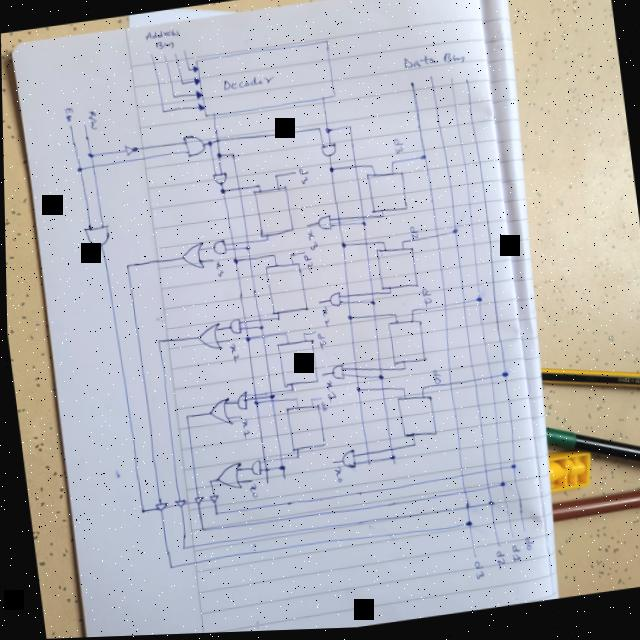crossover: (460, 503, 470, 513), (494, 467, 503, 475), (479, 470, 488, 477), (432, 233, 439, 242), (460, 489, 467, 497), (456, 474, 464, 481), (361, 241, 368, 249), (261, 466, 268, 474), (88, 163, 96, 170), (486, 376, 493, 383), (440, 305, 447, 312), (445, 383, 452, 389), (483, 486, 489, 492), (459, 301, 465, 307), (386, 448, 392, 454), (344, 300, 350, 306), (470, 379, 475, 386), (377, 388, 384, 393), (376, 368, 382, 373), (370, 314, 375, 319), (276, 457, 281, 462), (260, 459, 265, 464), (353, 165, 357, 169), (360, 216, 364, 220), (368, 292, 372, 296), (364, 453, 368, 457), (364, 461, 368, 465), (353, 375, 357, 379), (337, 224, 341, 228), (335, 217, 339, 221), (267, 390, 271, 394), (257, 318, 261, 322), (243, 326, 247, 330), (242, 320, 246, 324), (230, 241, 234, 245), (231, 247, 235, 251), (237, 186, 241, 190), (216, 138, 220, 142), (353, 368, 356, 372), (345, 294, 348, 298), (268, 400, 272, 403), (251, 392, 255, 395), (252, 397, 256, 400), (245, 240, 248, 243)
junction: (498, 371, 509, 381), (85, 148, 94, 160), (164, 561, 174, 571), (75, 163, 84, 173), (323, 126, 332, 136), (338, 242, 348, 251), (327, 166, 337, 175), (484, 501, 494, 510), (418, 153, 428, 162), (122, 261, 132, 270), (153, 336, 163, 345), (358, 219, 367, 229), (473, 297, 483, 306), (176, 542, 187, 550), (449, 228, 458, 237), (214, 151, 223, 160), (344, 314, 353, 323), (386, 455, 395, 464), (506, 464, 515, 473), (461, 521, 470, 530), (217, 187, 227, 195), (495, 483, 505, 491), (276, 464, 284, 473), (196, 525, 205, 533), (367, 299, 376, 307), (206, 139, 213, 149), (398, 386, 406, 394), (159, 107, 167, 115), (137, 507, 145, 514), (346, 124, 353, 132), (417, 386, 425, 393), (408, 442, 416, 449), (182, 413, 189, 420), (353, 387, 360, 394), (170, 92, 177, 99), (272, 173, 279, 180), (243, 336, 250, 343), (229, 151, 236, 158), (367, 163, 374, 170), (463, 79, 470, 86), (288, 252, 295, 259), (408, 309, 415, 316), (390, 161, 397, 168), (269, 252, 276, 259), (179, 80, 186, 87), (400, 368, 406, 375), (398, 241, 405, 247), (379, 241, 385, 247), (307, 397, 313, 403), (288, 387, 294, 393), (281, 331, 287, 337), (254, 183, 260, 189), (212, 510, 218, 516), (267, 394, 273, 399), (244, 245, 249, 251), (379, 214, 384, 220), (292, 398, 298, 403), (299, 331, 305, 336), (257, 325, 262, 331), (252, 400, 257, 406), (232, 258, 237, 263), (293, 454, 298, 459), (263, 237, 268, 242), (259, 335, 264, 339), (392, 314, 396, 318), (275, 316, 279, 320), (316, 128, 320, 132), (187, 66, 191, 70), (247, 257, 251, 261), (387, 291, 390, 295)
terminal: (518, 527, 527, 537), (468, 554, 478, 561), (448, 75, 455, 85), (408, 81, 416, 89), (506, 534, 514, 542), (492, 542, 500, 550), (172, 50, 180, 58), (427, 75, 434, 84), (147, 51, 154, 60), (66, 122, 73, 131), (160, 52, 168, 59), (208, 257, 215, 264), (181, 47, 188, 54), (290, 170, 296, 177), (246, 477, 252, 483), (81, 123, 87, 129), (311, 330, 317, 335), (262, 480, 268, 485), (328, 461, 333, 466), (305, 224, 310, 229), (280, 476, 285, 480), (227, 338, 231, 343), (302, 251, 306, 255), (317, 397, 321, 401), (320, 374, 324, 378), (316, 301, 320, 305), (237, 415, 241, 419)
text: (401, 50, 466, 75), (218, 70, 276, 94), (143, 26, 180, 41), (304, 229, 319, 252), (491, 552, 505, 573), (324, 380, 335, 406), (237, 417, 250, 439), (86, 108, 98, 131), (153, 39, 176, 51), (470, 561, 483, 582), (419, 288, 432, 307), (331, 464, 342, 486), (507, 546, 519, 566), (227, 342, 238, 363), (212, 259, 224, 278), (297, 169, 310, 186), (62, 104, 74, 122), (314, 333, 326, 351), (392, 140, 404, 157), (430, 370, 442, 387), (320, 305, 328, 329), (406, 227, 419, 241), (302, 254, 312, 272), (521, 539, 532, 554), (246, 483, 256, 499), (319, 402, 326, 413), (375, 374, 383, 383)
